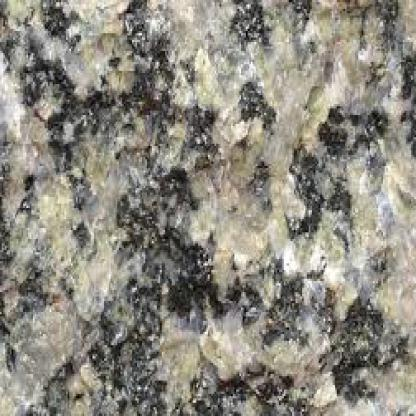Igneous_Diorite: (1, 2, 415, 415)
